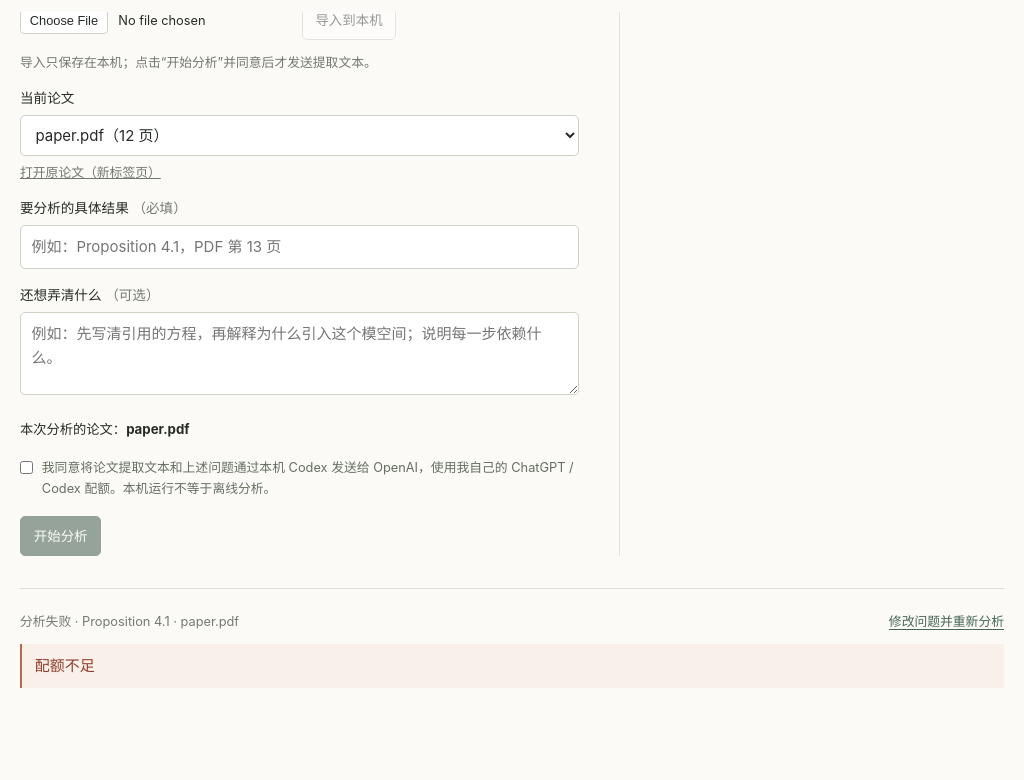
it: LocalReader › 失败重试只回填表单，不自动消耗新配额
(page scrolled)
Expected: the text "配额不足" is shown, [20,644,1004,688]
Click the button "修改问题并重新分析" at (946, 622), box [889,611,1004,632]
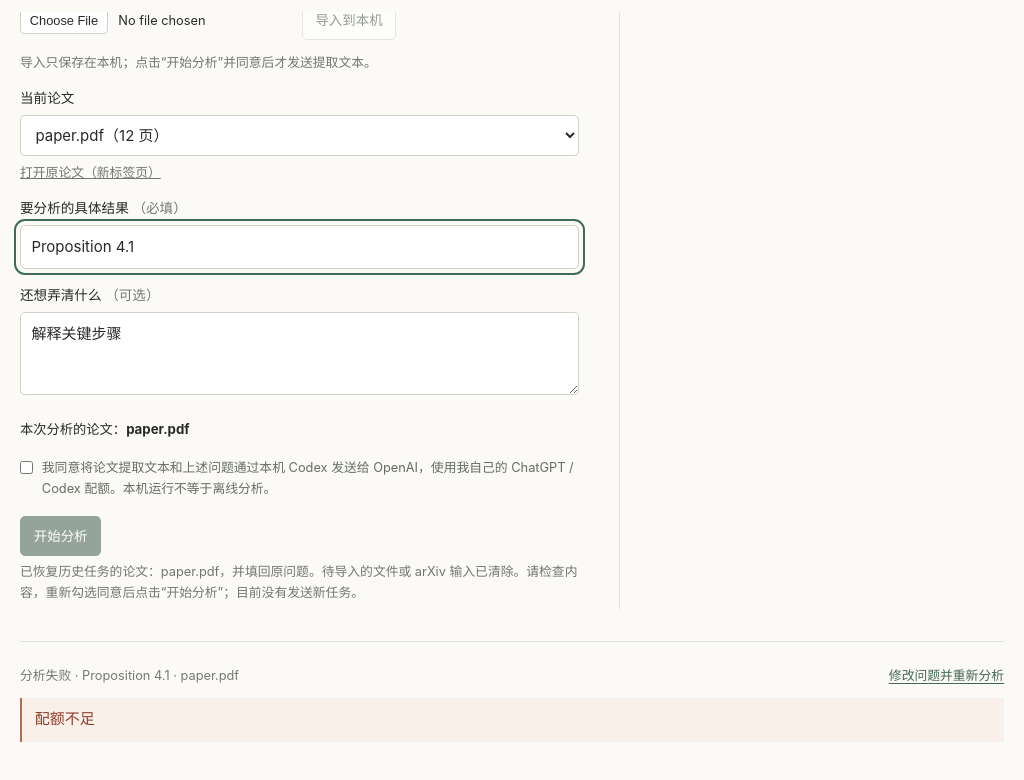
Expected: the checkbox is not checked, [20,461,33,474]
Result: the field labelled "要分析的具体结果 （必填）" holds "Proposition 4.1" at [20,225,579,269]
Result: the text box labelled "还想弄清什么 （可选）" holds "解释关键步骤" at [20,312,579,395]
